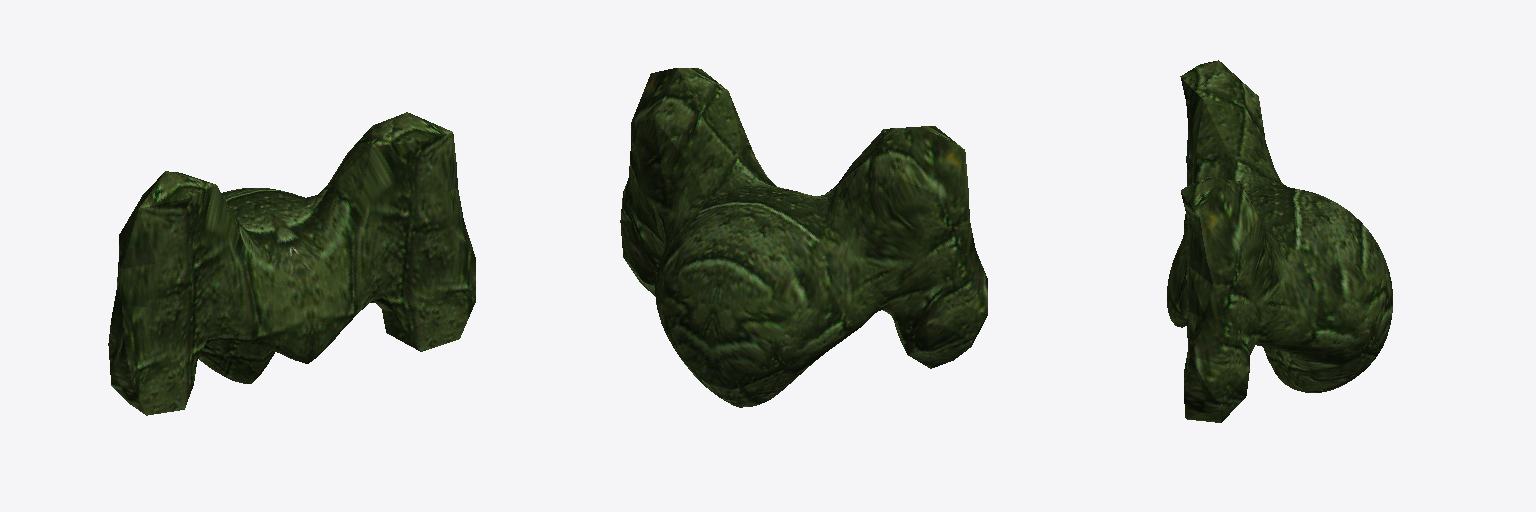
The picture shows the model from 3 angles: view 1: azimuth 30°, elevation 25°; view 2: azimuth 150°, elevation 25°; view 3: azimuth 270°, elevation 25°; orthographic projection.
Size of the model in its own units: 3.73 by 2.66 by 2.
1 materials, 1 textured.